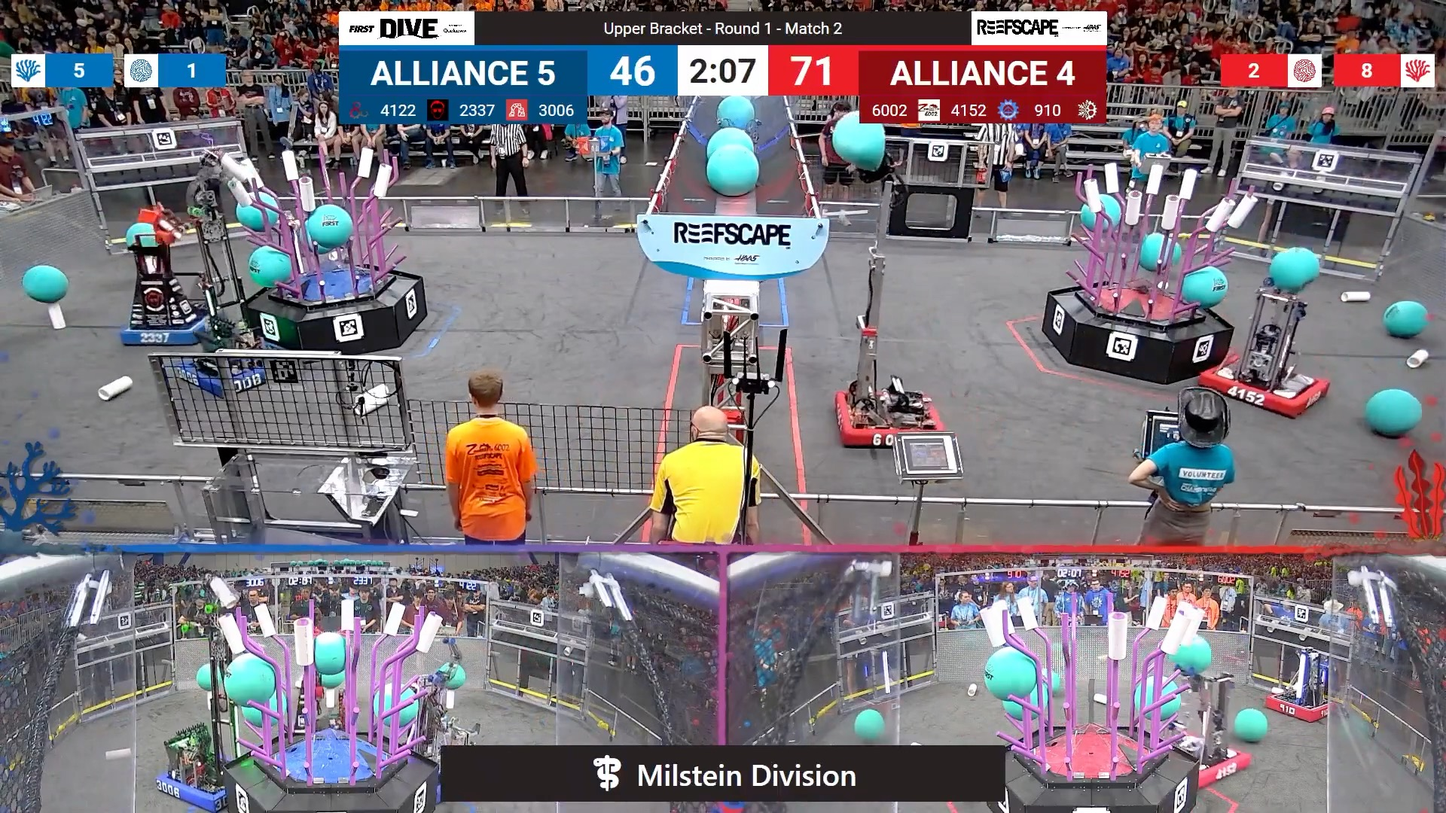bumpers: (1196, 358, 1334, 421), (826, 385, 947, 449), (151, 755, 249, 812), (172, 349, 279, 397), (115, 304, 222, 349), (1176, 739, 1259, 790), (1258, 692, 1342, 725)
